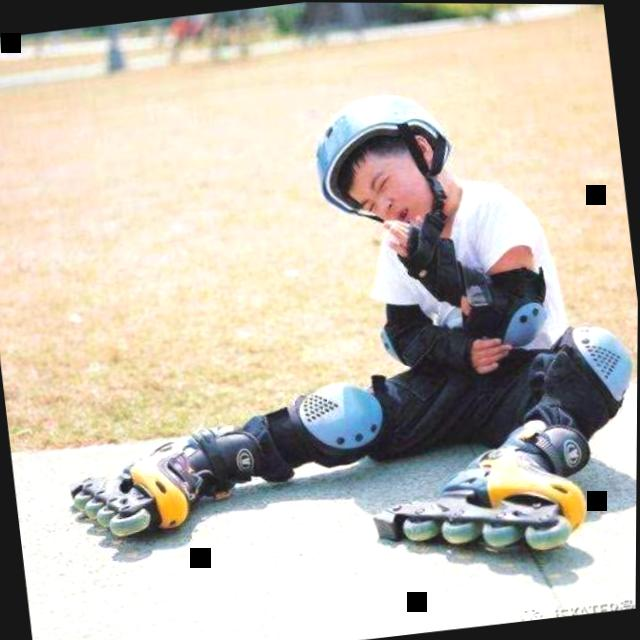Fall-Detected: (26, 46, 640, 600)
